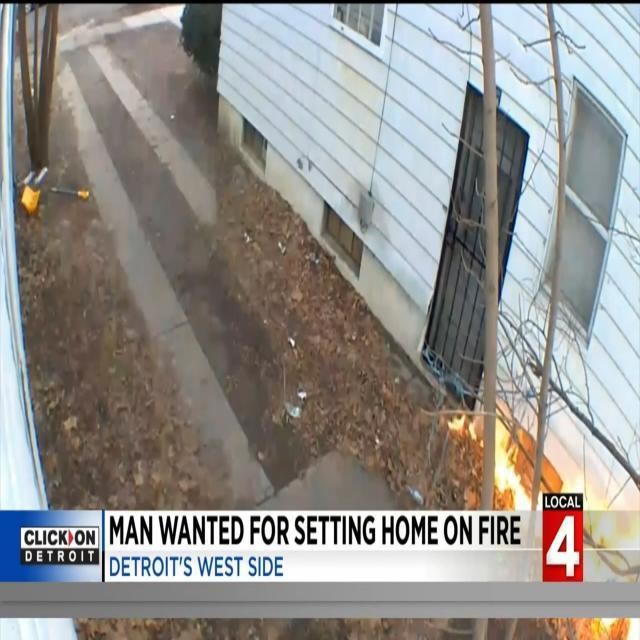Fire: (461, 393, 545, 512)
